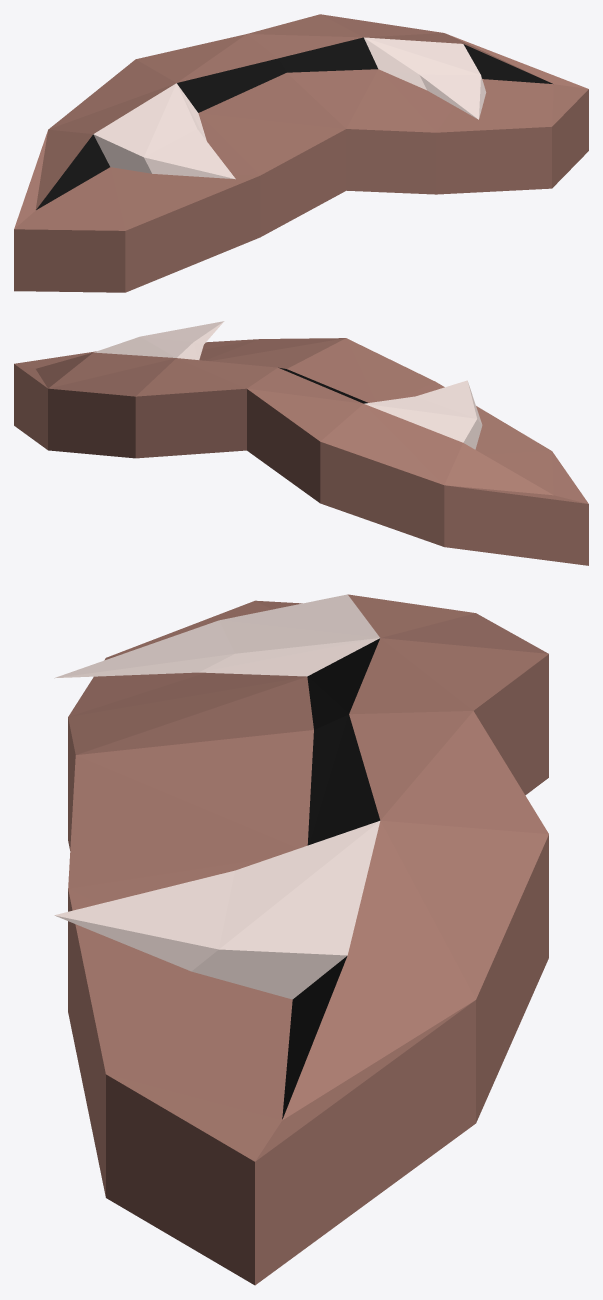
File: Mouth 11.FBX
3 views of the same model, one above another, from view 1: azimuth 30°, elevation 25°; view 2: azimuth 150°, elevation 25°; view 3: azimuth 270°, elevation 25° (orthographic). The views are drawn at different scales.
Visible parts, largest first — view 1: Mouth 11; view 2: Mouth 11; view 3: Mouth 11.
Boxes of the visible parts, bbox=[...] form: Mouth 11: bbox=[14, 14, 588, 292]; Mouth 11: bbox=[14, 321, 588, 565]; Mouth 11: bbox=[54, 594, 548, 1285].
Size of the model in its own units: 8 by 1.95 by 2.98.
1 material, 1 textured.
